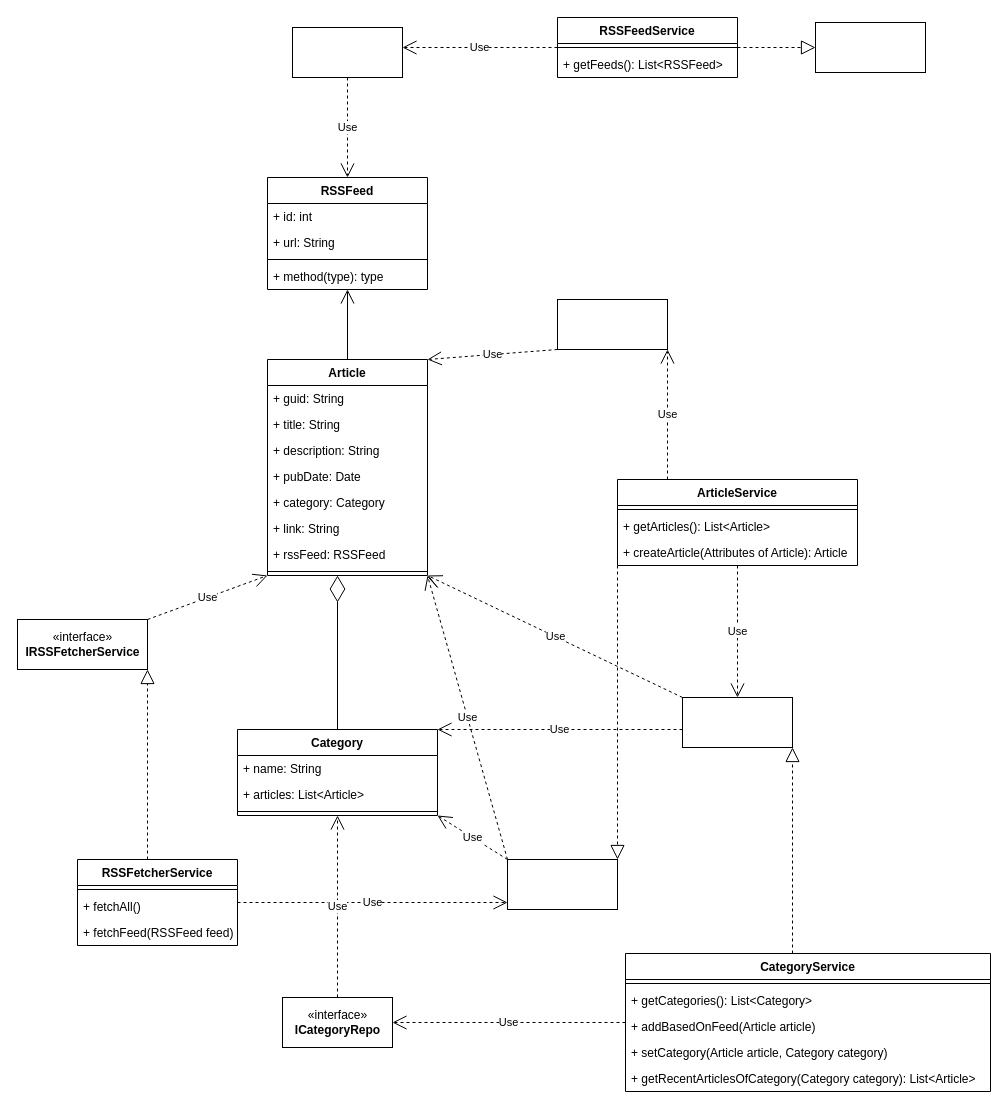
Some shapes in this 1008 by 1112 pixel diagram are drawn without their labels. Here are the shapes that lost their labels. From the top down, the centre of each, then its label:
At point 347,52: "«interface» IRSSFeedRepo".
At point 870,47: "«interface» IRSSFeedService".
At point 612,324: "«interface» IArticleRepo".
At point 737,722: "«interface» ICategoryService".
At point 562,884: "«interface» IArticleService".
